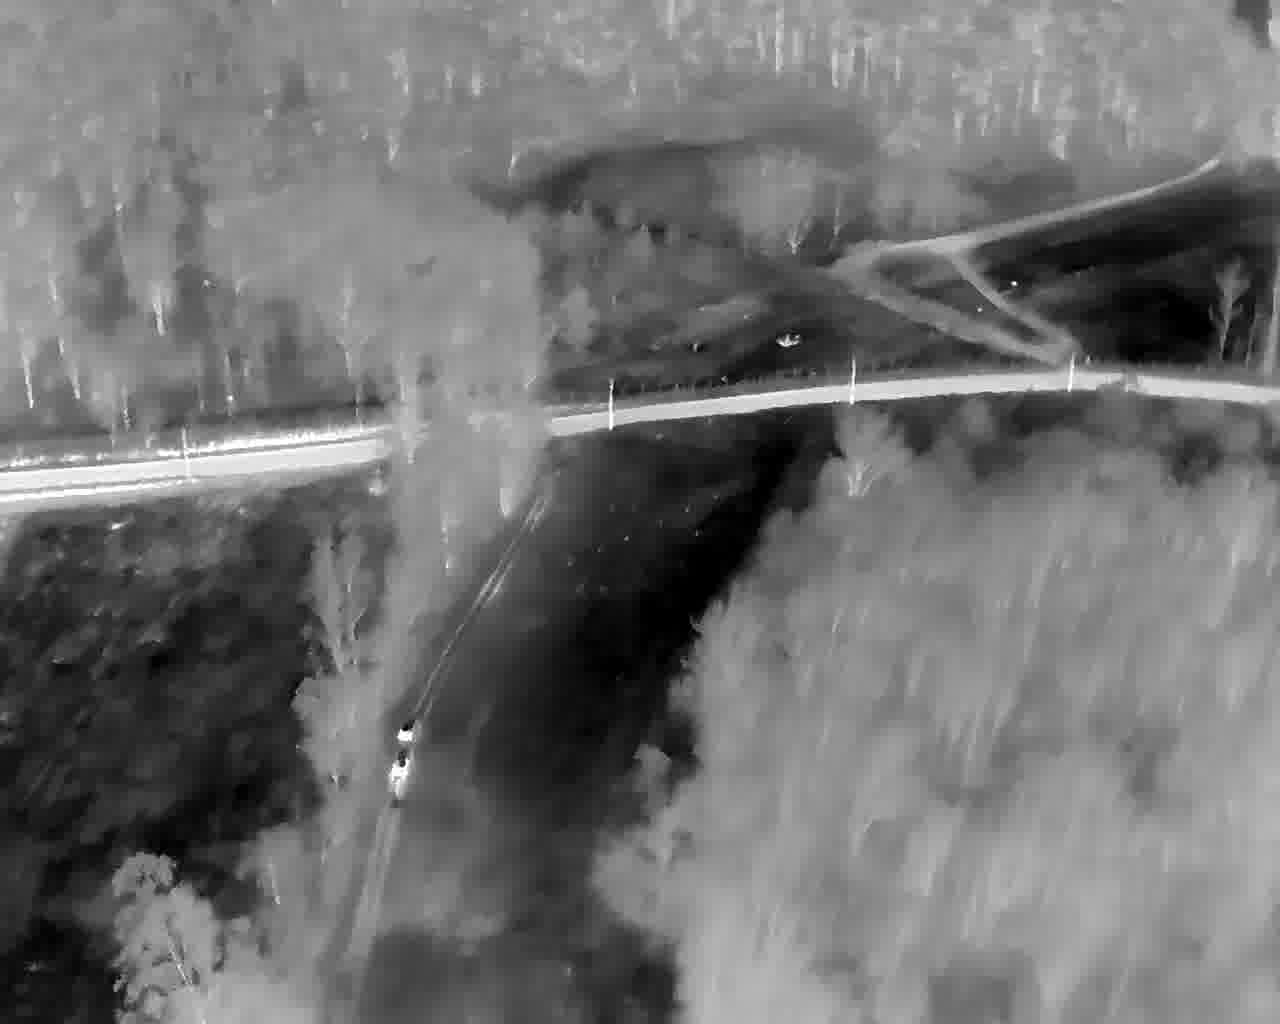car: (920, 865, 963, 945), (943, 976, 980, 1024)
person: (933, 850, 956, 873), (911, 828, 931, 853), (896, 862, 918, 881), (893, 846, 911, 862)
